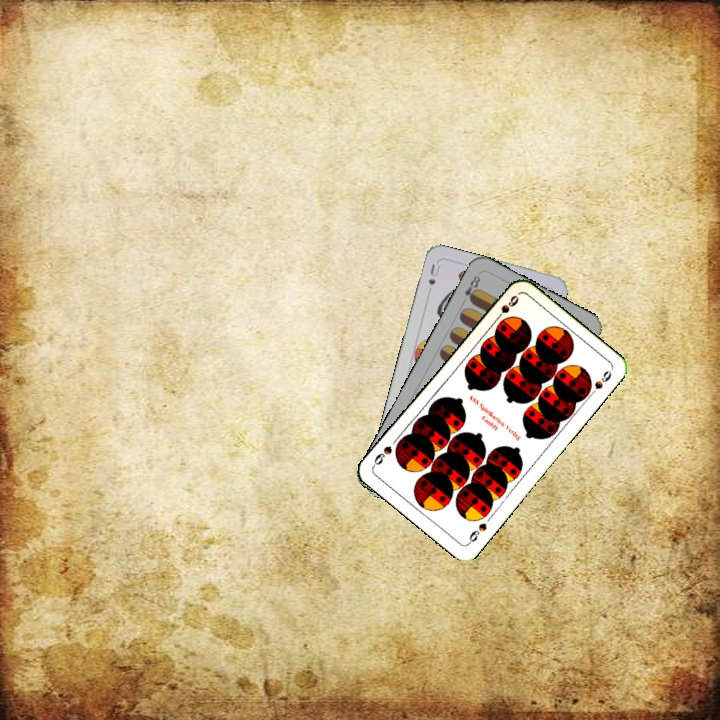E8: (458, 271, 483, 307)
S9: (490, 291, 521, 325), (464, 519, 490, 547)
SU: (424, 260, 443, 287)
